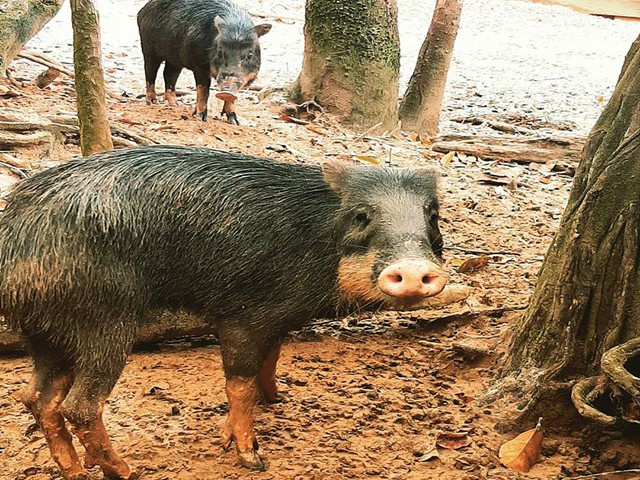Pig: (2, 142, 458, 464), (129, 2, 274, 122)
